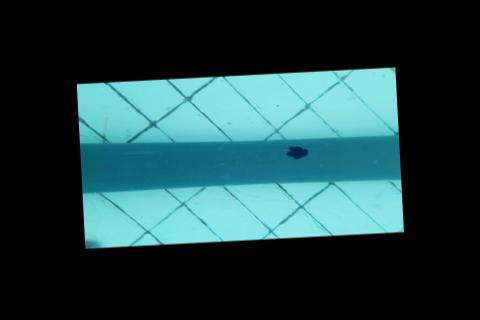kebocoran: (283, 145, 308, 160)
